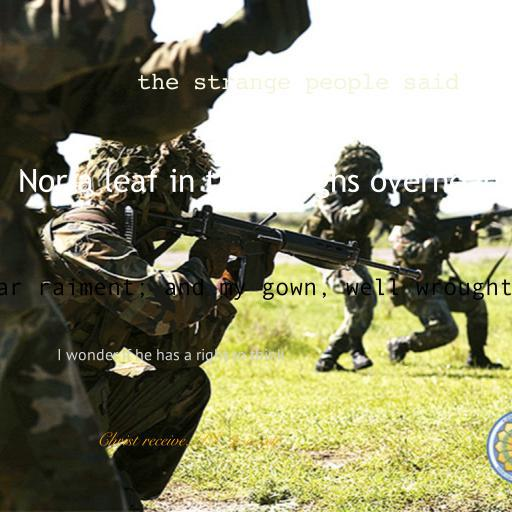Andale Mono: (0, 278, 512, 300)
Courier: (137, 72, 459, 94)
PT Sans: (57, 348, 285, 364)
Snell Roundhand: (97, 432, 279, 448)
Trebuchet MS: (17, 168, 501, 199)
